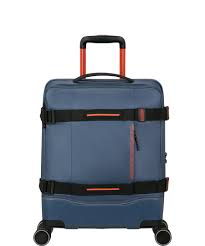suitcase: (31, 34, 171, 246)
